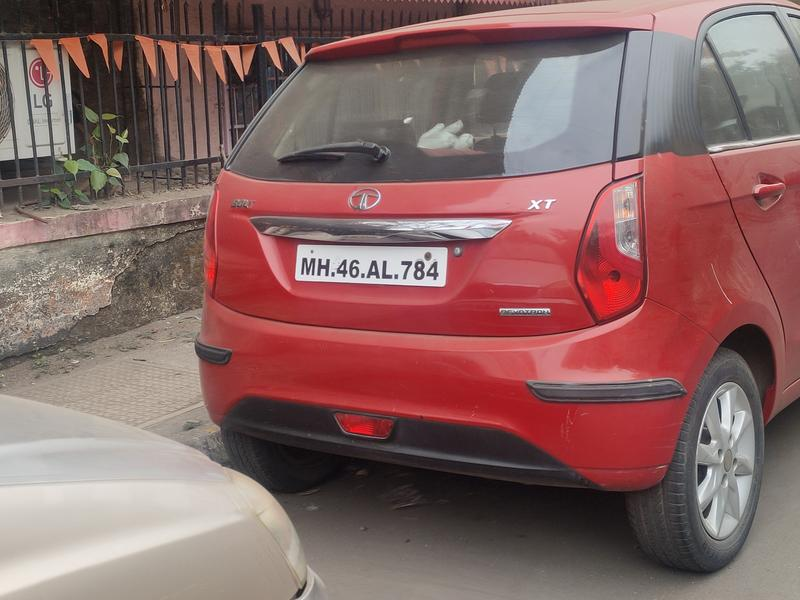license_plate: (291, 238, 458, 298)
